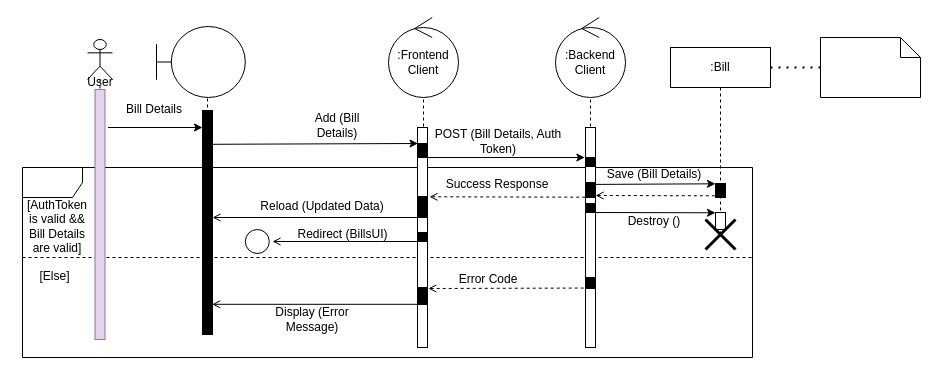
This 938x375 diagram has some shape labels left out. The shapes that lost their labels are listed below. From the top down, each one's box as (x1, y1, x2, y2) in pixels, then its label:
(156, 26, 245, 98): :AddBillUI
(820, 36, 920, 98): Instance of Bill Table in Database
(22, 166, 752, 358): alt
